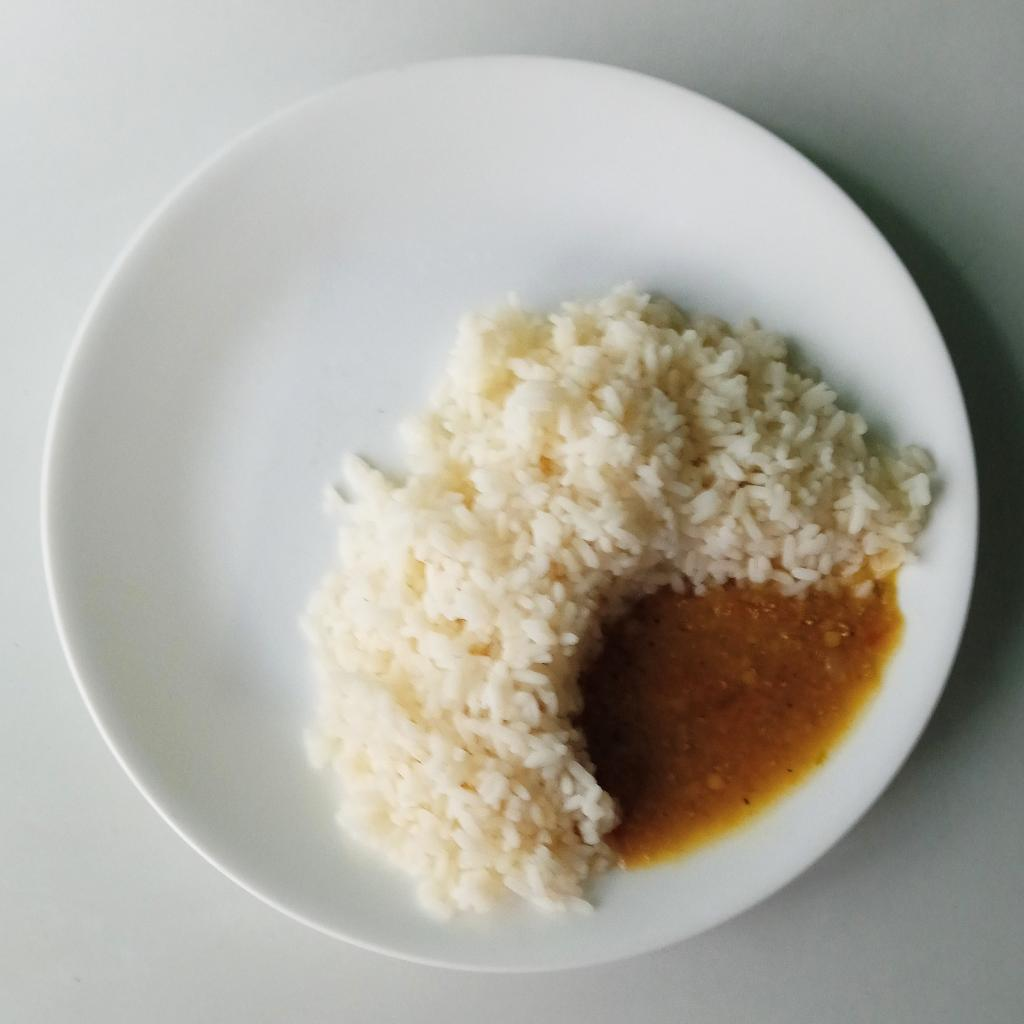daal: (582, 583, 907, 874)
rice: (293, 278, 941, 931)
